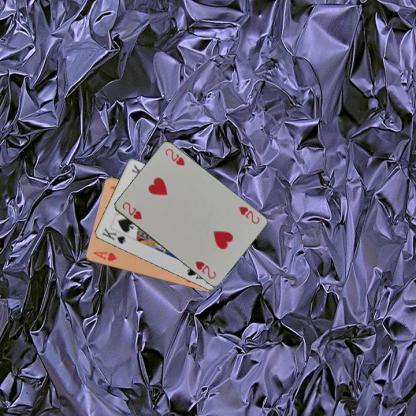2h: (236, 204, 260, 226), (119, 199, 142, 221)
Ah: (91, 248, 118, 262)
Ks: (98, 225, 126, 245)
